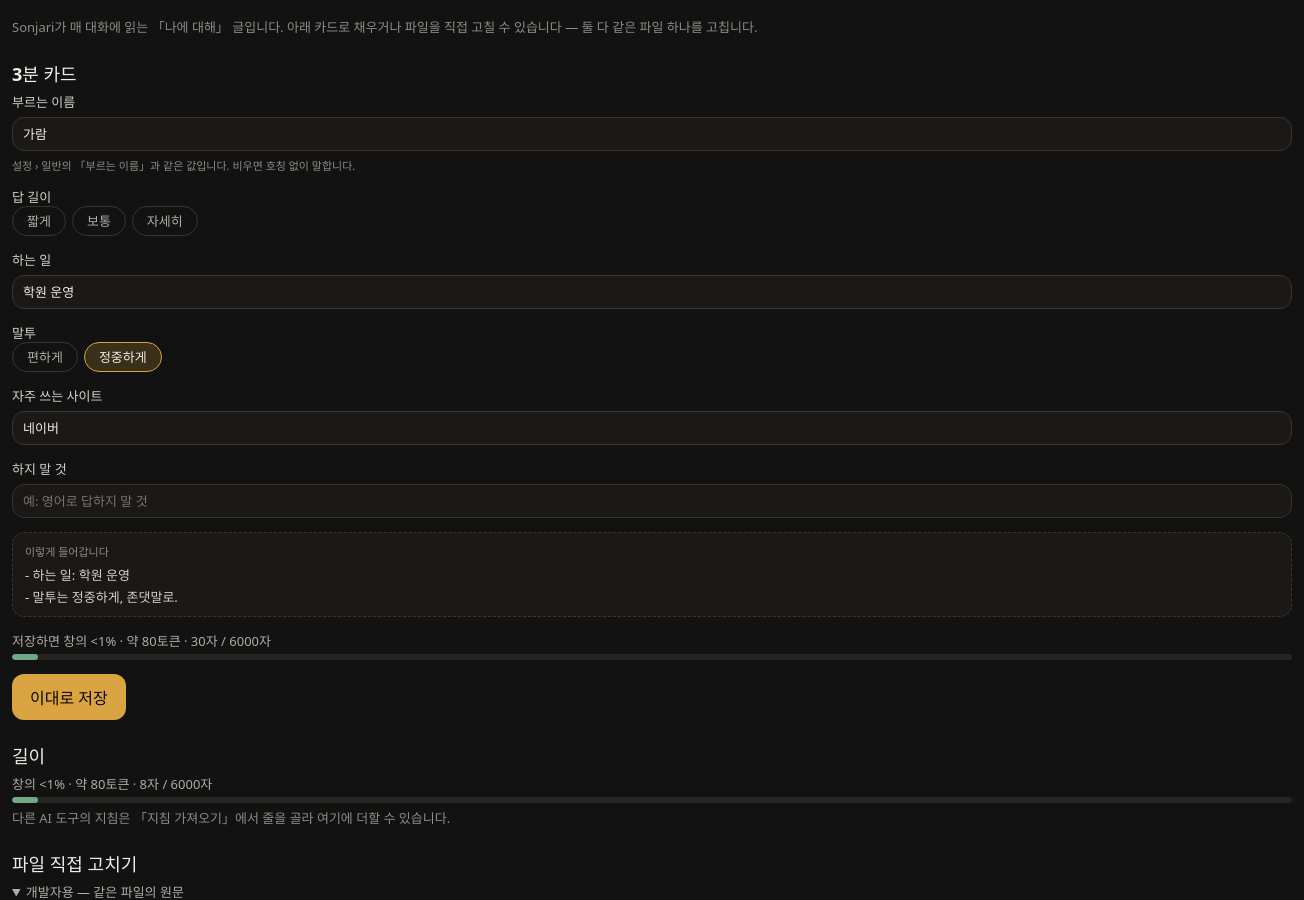
Test: 고르기를 바꾸면 백엔드 미리보기를 그대로 보이고, 「이대로 저장」을 눌러야 쓴다
Click the radio button labelled "짧게". click: click(39, 220)
box: [12, 206, 66, 236]
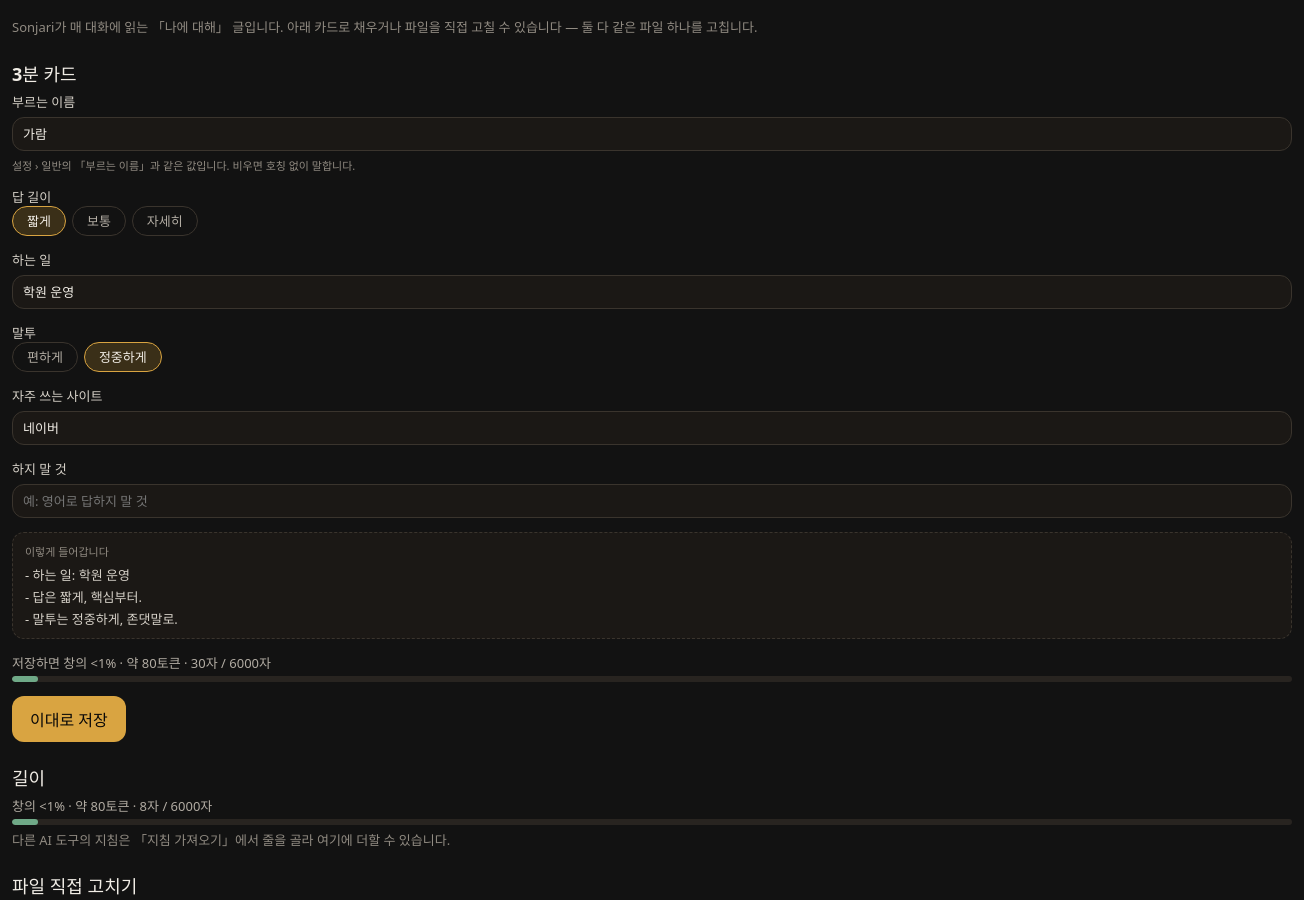
Expected: the element with test id "aboutme-preview" shows "- 답은 짧게, 핵심부터.", [25, 588, 142, 606]
Click the button "이대로 저장". click: click(69, 718)
box: [12, 696, 126, 742]
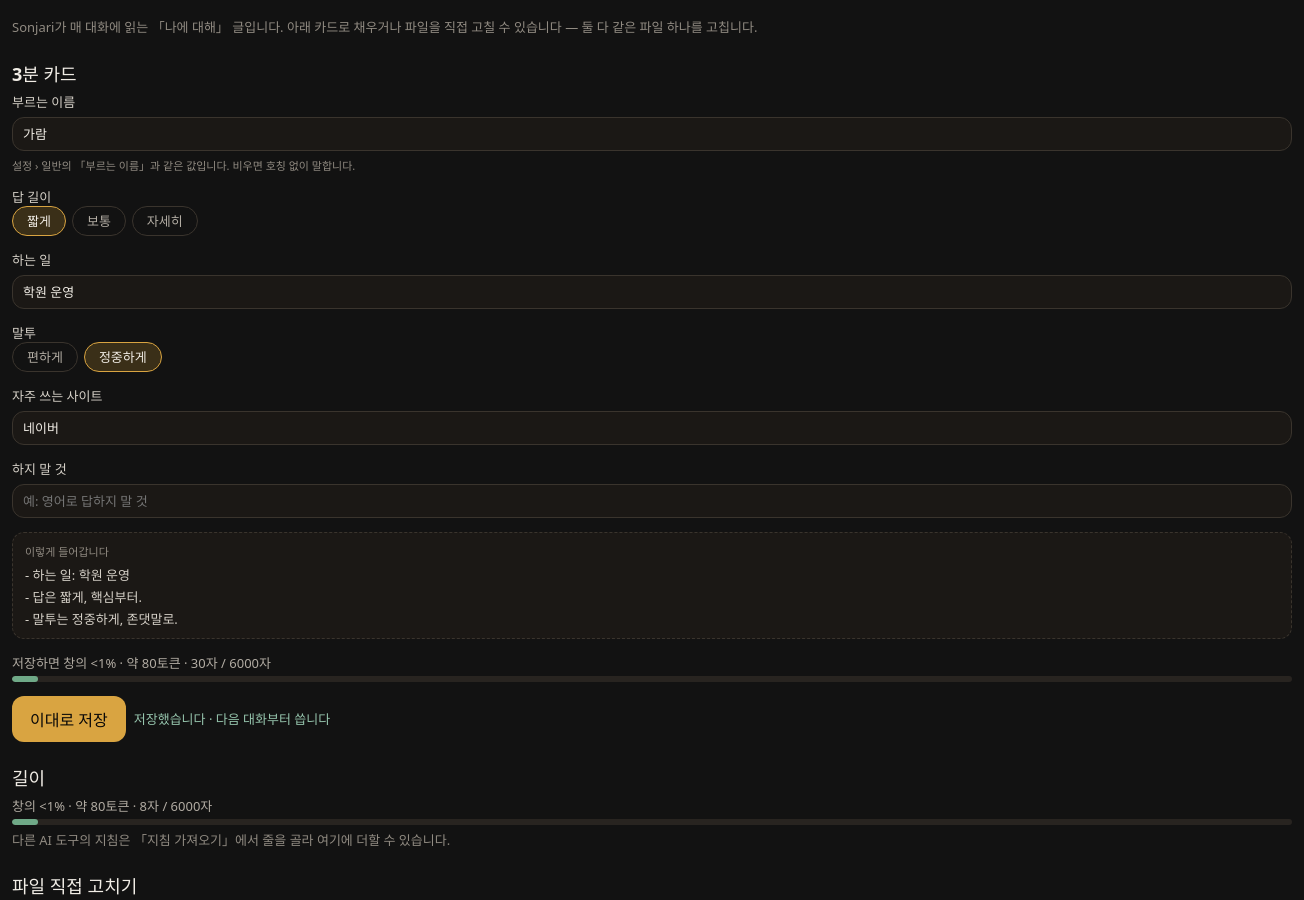
Expected: the text "저장했습니다 · 다음 대화부터 씁니다" is shown, [134, 709, 330, 728]
